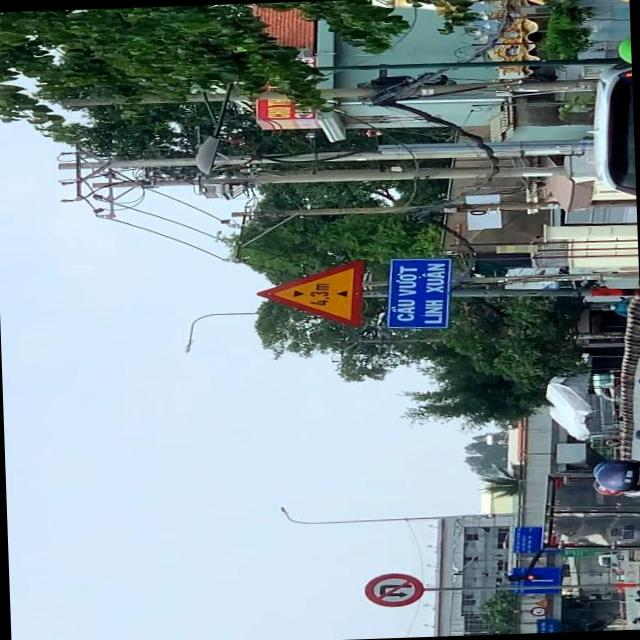P-124a1: (362, 571, 426, 606)
W-239b: (256, 266, 364, 330)
